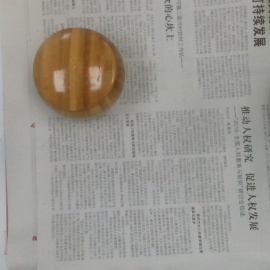chess: (34, 28, 125, 117)
